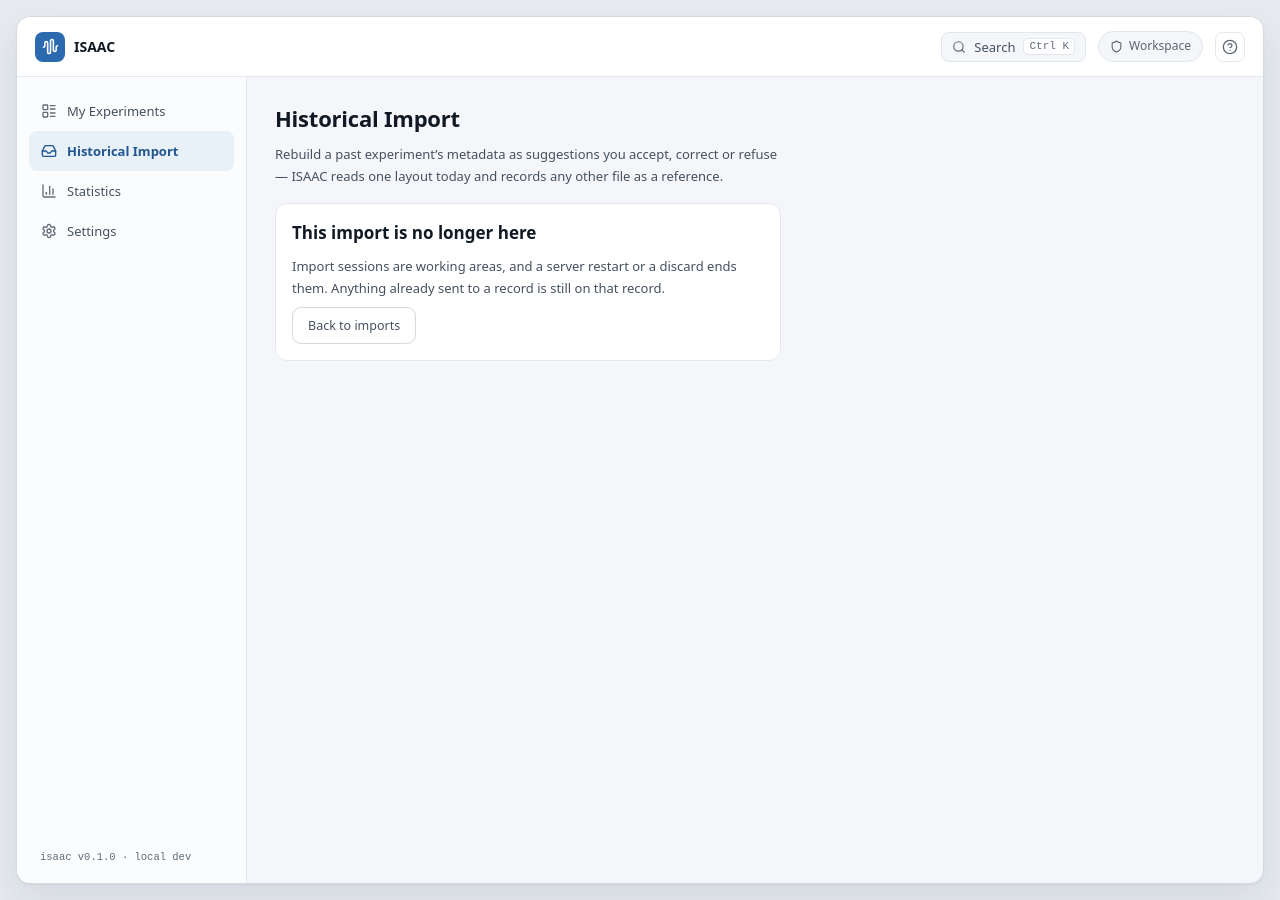
Scenario: C-14 · an import and its stage are deep-linkable › a link to an import that no longer exists says so in words, with the way back
Check: the heading "This import is no longer here" is shown, box [292,221,536,244]
Click the button "Back to imports" at {"x": 354, "y": 325}, box [292,307,416,344]
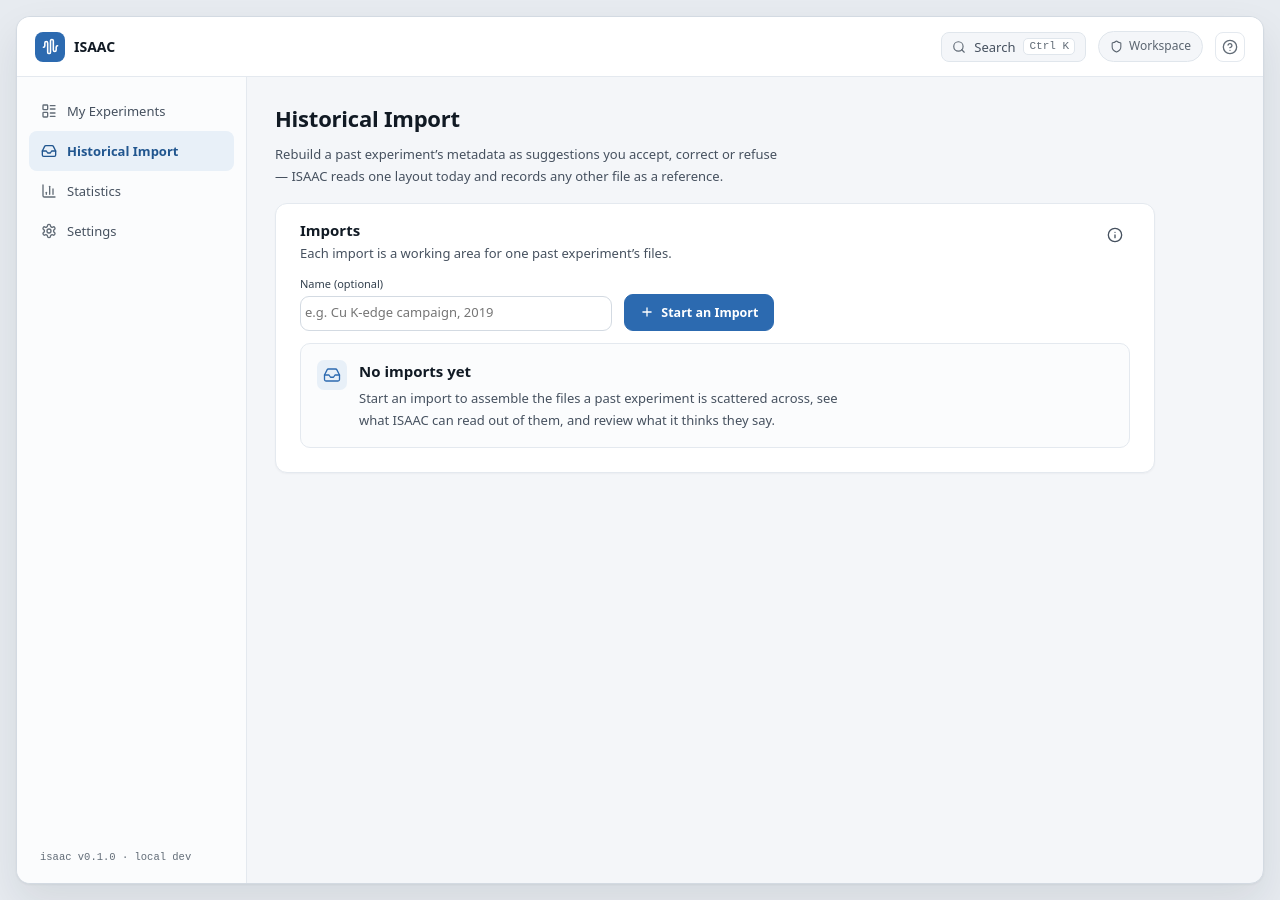
Check: the heading "Imports" is shown, box [300,220,360,240]
